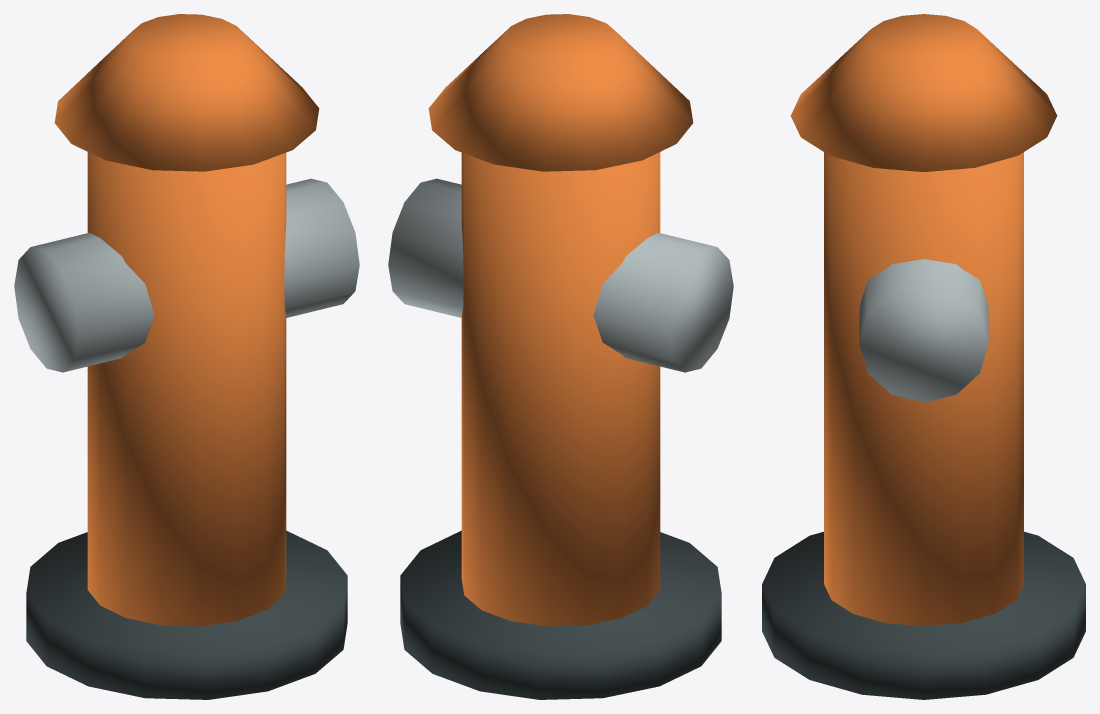
Rendered from site-hydrant.glb.
3 views of the same model, side by side, from view 1: azimuth 30°, elevation 25°; view 2: azimuth 150°, elevation 25°; view 3: azimuth 270°, elevation 25° (orthographic).
Visible parts, largest first — view 1: site-hydrant_Safety_orange, site-hydrant_Anthracite_anodized_metal, site-hydrant_Galvanized_brushed_steel; view 2: site-hydrant_Safety_orange, site-hydrant_Anthracite_anodized_metal, site-hydrant_Galvanized_brushed_steel; view 3: site-hydrant_Safety_orange, site-hydrant_Anthracite_anodized_metal, site-hydrant_Galvanized_brushed_steel.
Part boxes in pixels (bbox=[...]): site-hydrant_Safety_orange: bbox=[54, 14, 319, 626]; site-hydrant_Anthracite_anodized_metal: bbox=[26, 530, 347, 699]; site-hydrant_Galvanized_brushed_steel: bbox=[14, 178, 359, 372]; site-hydrant_Safety_orange: bbox=[428, 14, 693, 626]; site-hydrant_Anthracite_anodized_metal: bbox=[400, 530, 721, 699]; site-hydrant_Galvanized_brushed_steel: bbox=[388, 178, 733, 372]; site-hydrant_Safety_orange: bbox=[790, 14, 1057, 626]; site-hydrant_Anthracite_anodized_metal: bbox=[762, 531, 1085, 699]; site-hydrant_Galvanized_brushed_steel: bbox=[859, 259, 988, 402].
Bounding box in the file's own units: 0.34 × 0.6875 × 0.34.
